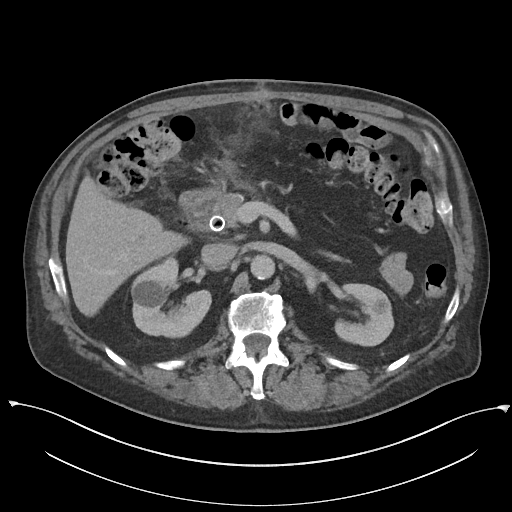Lesion: (128, 277, 170, 310)
